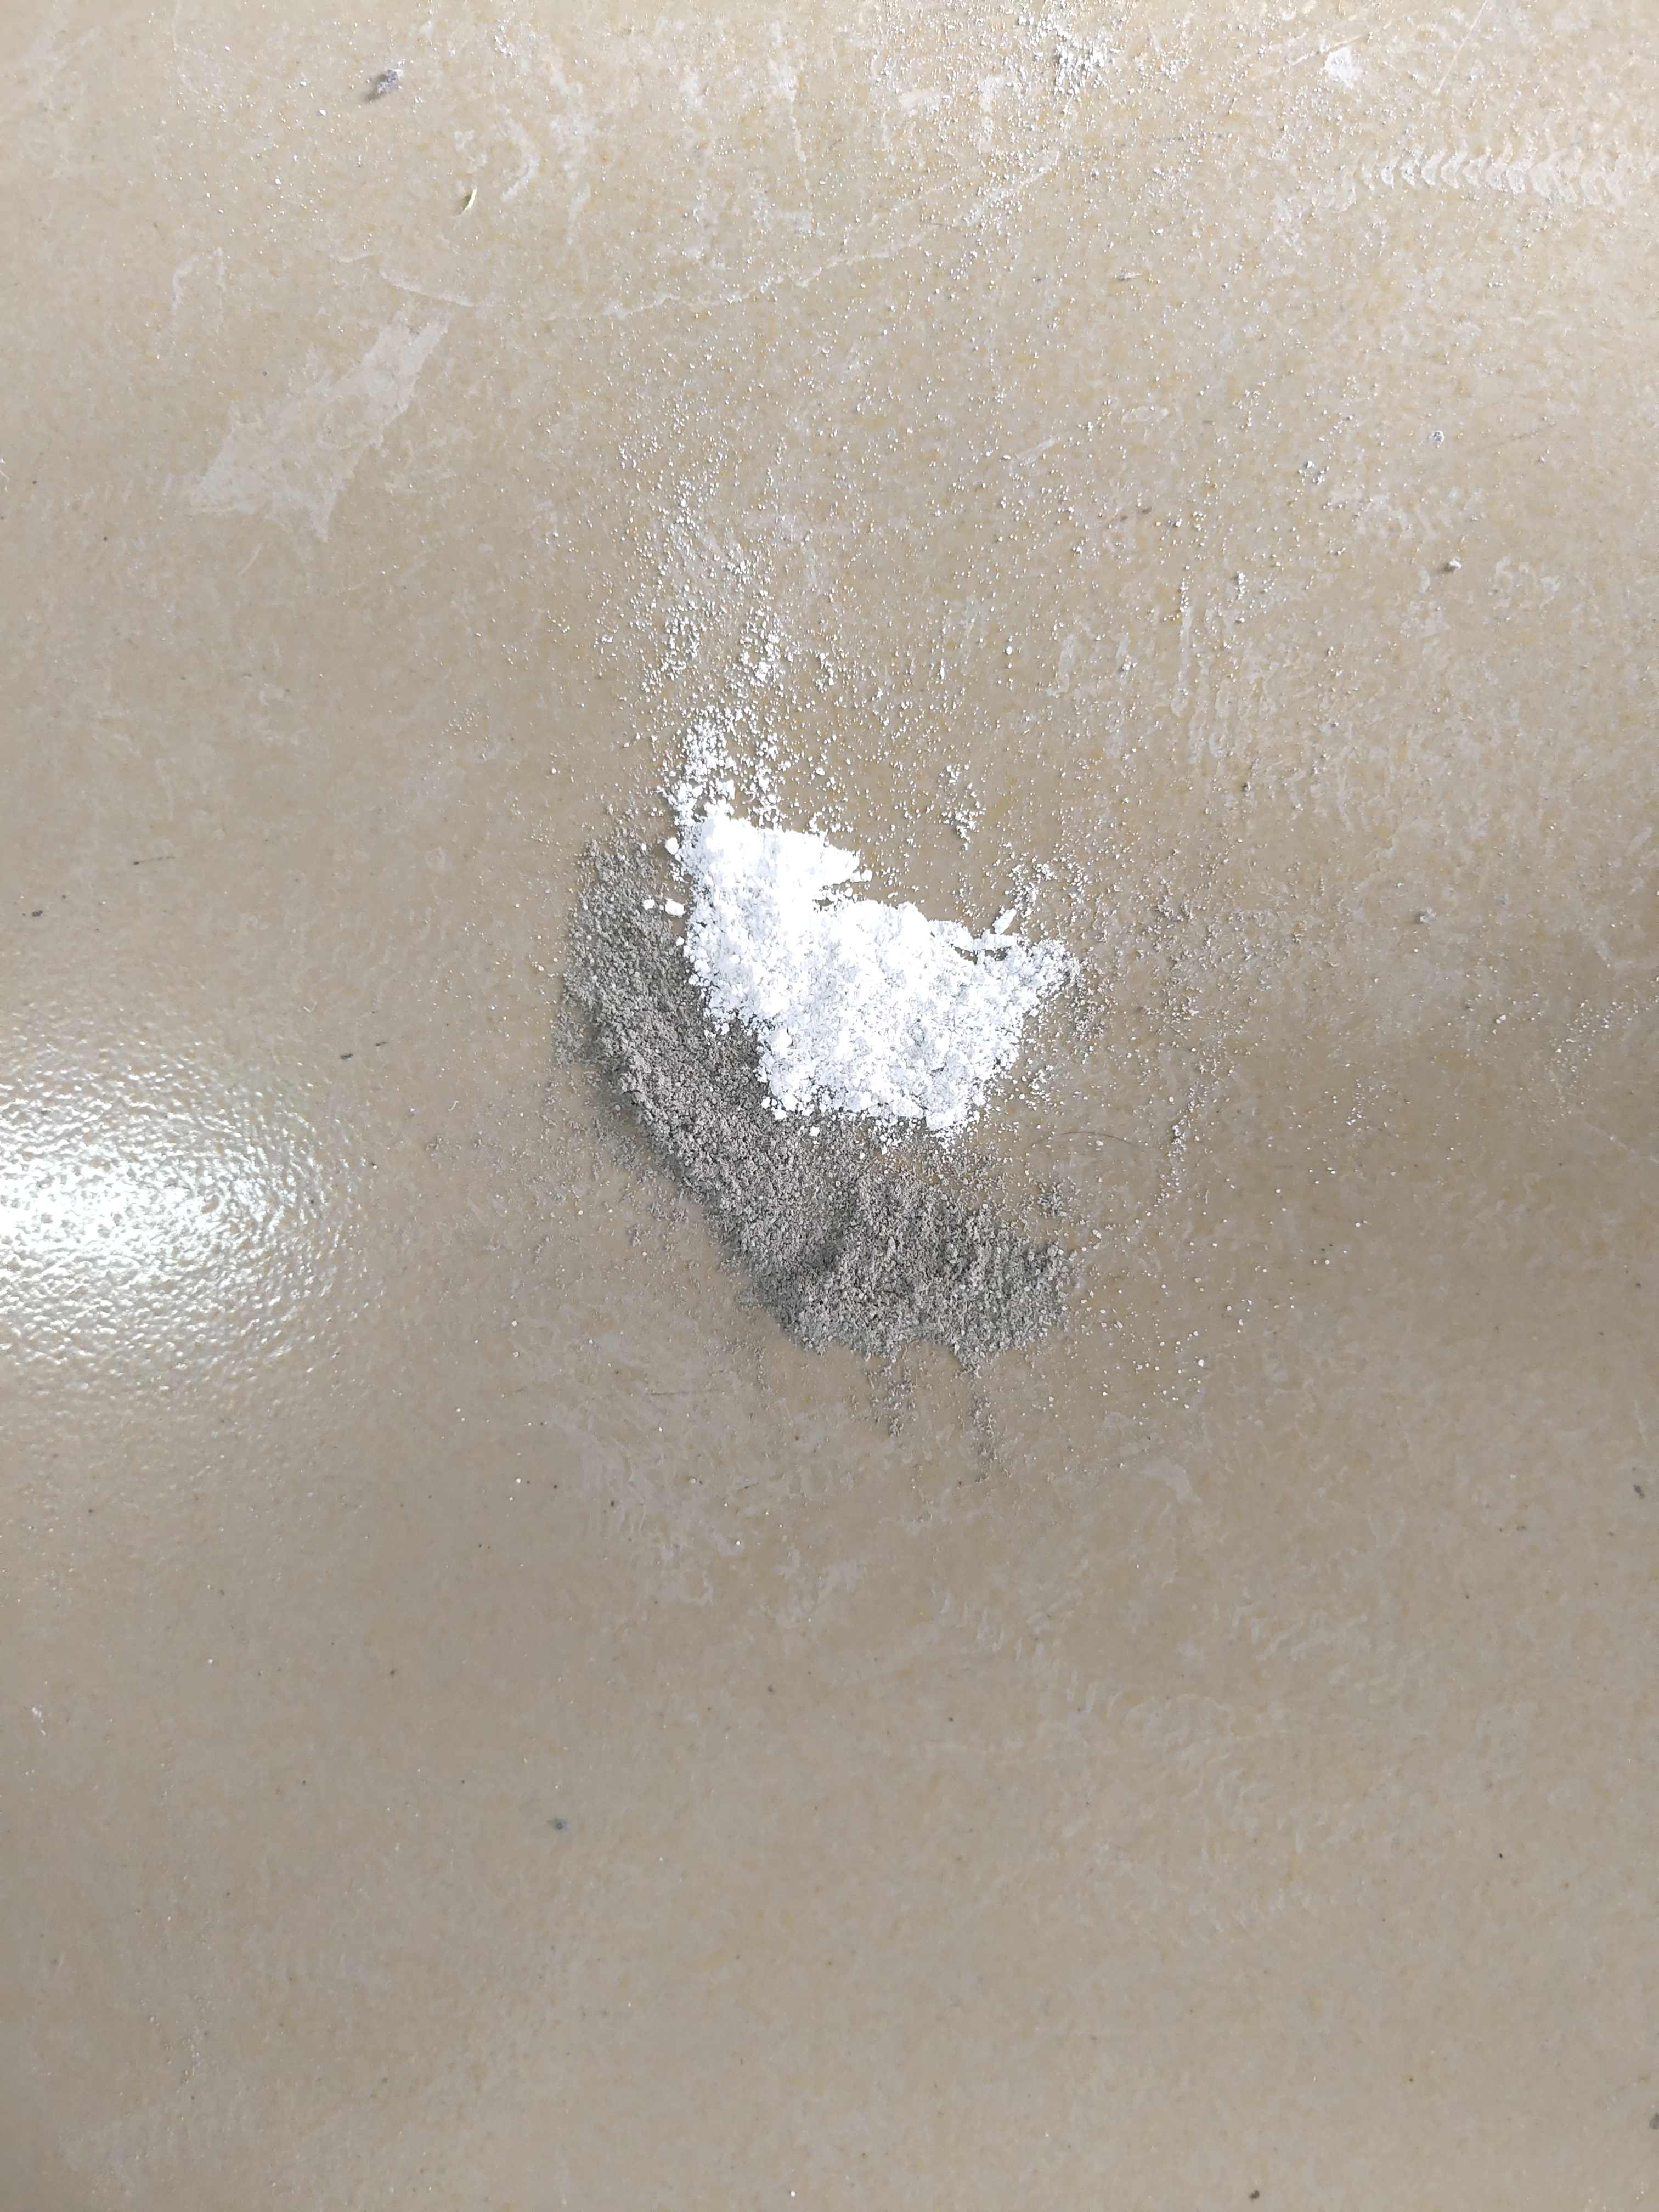ash pile: (554, 613, 1087, 1381)
reflection: (2, 1087, 333, 1371)
